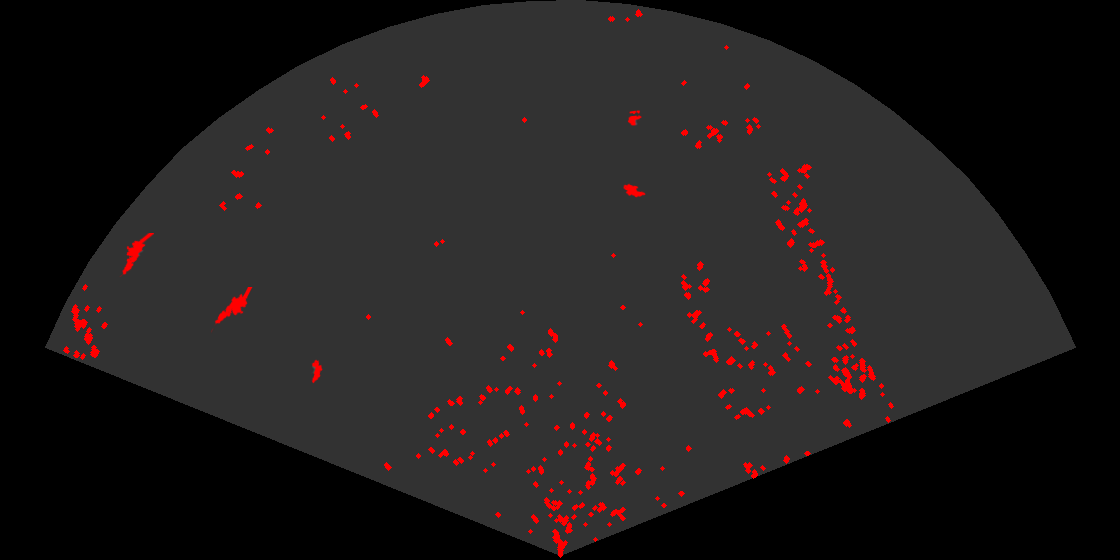AUV: (622, 182, 647, 199), (310, 358, 324, 385)
ball: (626, 109, 643, 127)
frogman: (211, 287, 253, 334), (118, 233, 154, 277)
